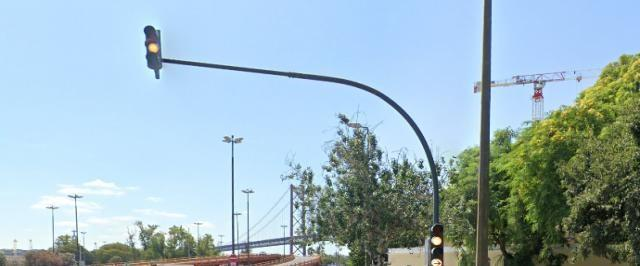yellow_light: (144, 25, 162, 68), (429, 223, 444, 258)
